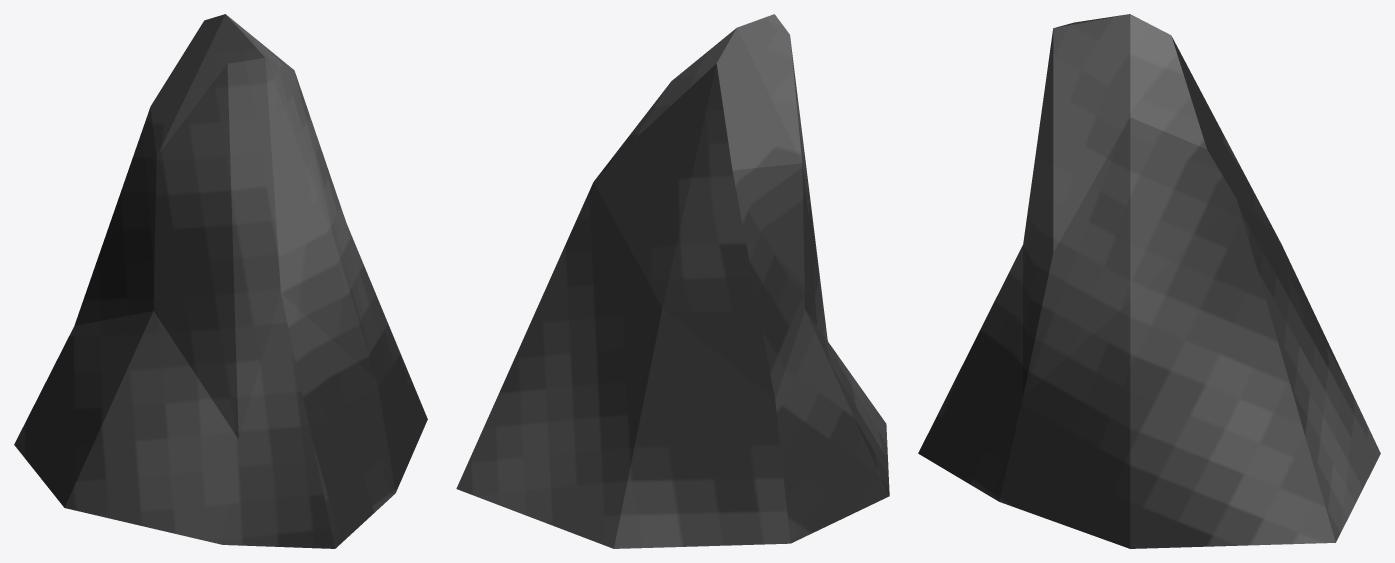
File: Boulder_3.glb
3 views of the same model, side by side, from view 1: azimuth 30°, elevation 25°; view 2: azimuth 150°, elevation 25°; view 3: azimuth 270°, elevation 25° (orthographic). The views are drawn at different scales.
Visible parts, largest first — view 1: Cube; view 2: Cube; view 3: Cube.
Part boxes in pixels (<box>): Cube: <box>14,14,427,548</box>; Cube: <box>456,14,889,548</box>; Cube: <box>918,14,1380,548</box>.
Size of the model in its own units: 5.27 by 6.3 by 6.01.
1 material, 1 textured.
